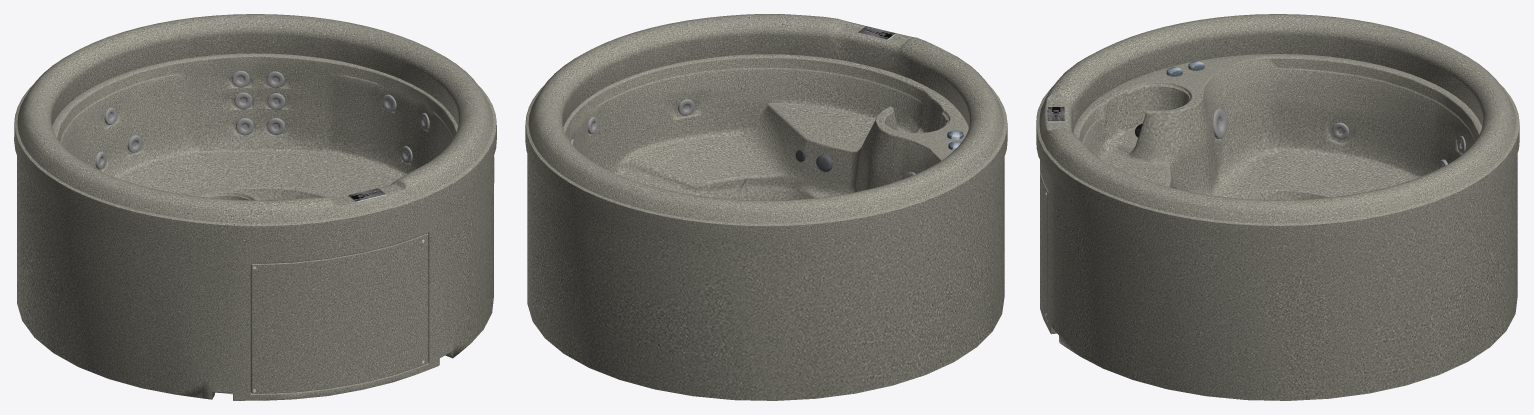
Rendered from aptos_sand_hot_tub_example_asset.glb.
3 renders of one model, left to right at view 1: azimuth 30°, elevation 25°; view 2: azimuth 150°, elevation 25°; view 3: azimuth 270°, elevation 25°, orthographic.
Parts seen in each view (by area): view 1: aptos_low; view 2: aptos_low; view 3: aptos_low.
Boxes of the visible parts, x1,y1,x2,y2 form: aptos_low: (14, 14, 496, 400); aptos_low: (525, 14, 1007, 400); aptos_low: (1036, 14, 1519, 400).
Bounding box in the file's own units: 1.98 × 0.8685 × 1.99.
Materials: 1 (1 with a texture image).
